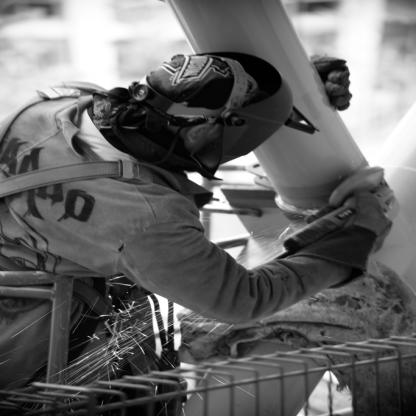Helmet: (111, 56, 287, 154)
